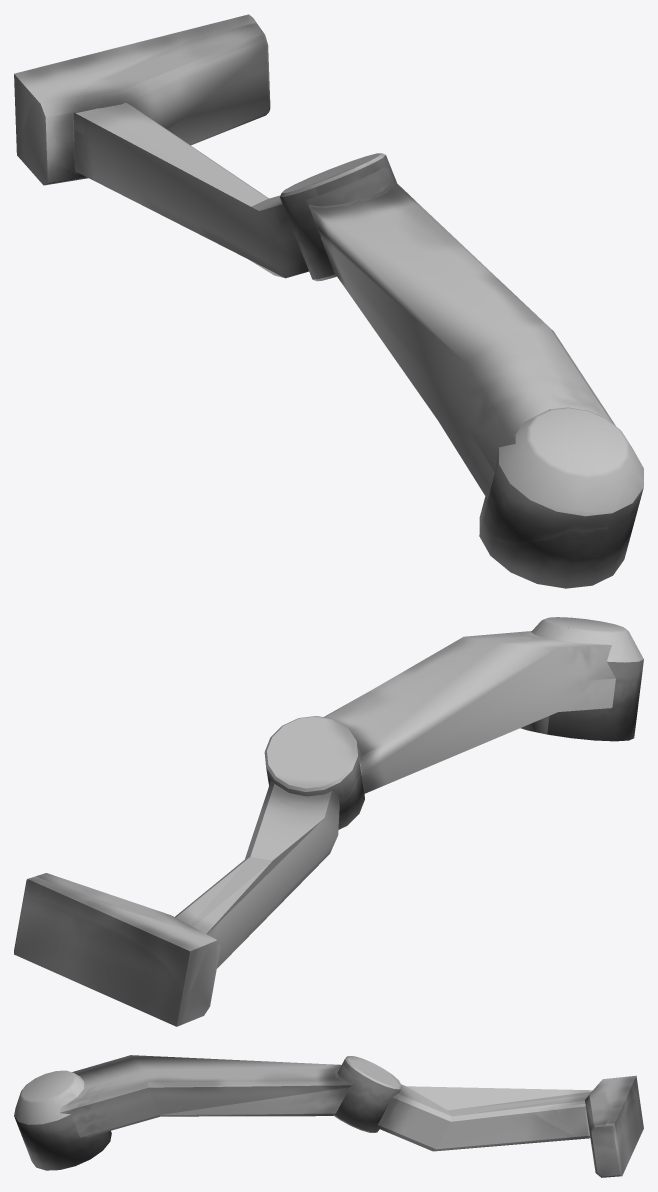
Rendered from Bobot leg.glb.
3 views of the same model, one above another, from view 1: azimuth 30°, elevation 25°; view 2: azimuth 150°, elevation 25°; view 3: azimuth 270°, elevation 25° (orthographic). The views are drawn at different scales.
Parts seen in each view (by area): view 1: bobot leg; view 2: bobot leg; view 3: bobot leg.
Part boxes in pixels (box(x1,y1,x2,y2)): bobot leg: box(14, 14, 643, 588); bobot leg: box(14, 617, 643, 1026); bobot leg: box(14, 1055, 643, 1177).
Bounding box in the file's own units: 0.3048 × 0.2338 × 1.16.
Materials: 1 (1 with a texture image).
